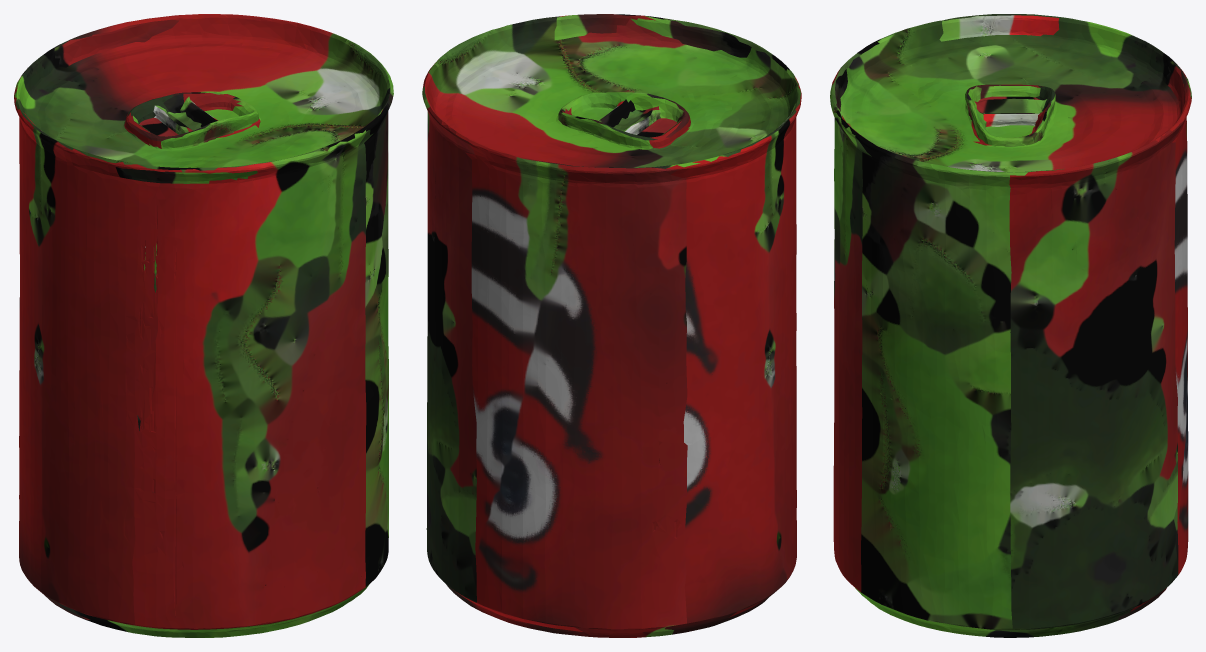
File: sample.obj
3 views of the same model, side by side, from view 1: azimuth 30°, elevation 25°; view 2: azimuth 150°, elevation 25°; view 3: azimuth 270°, elevation 25° (orthographic).
Size of the model in its own units: 0.0981 by 0.135 by 0.0937.
